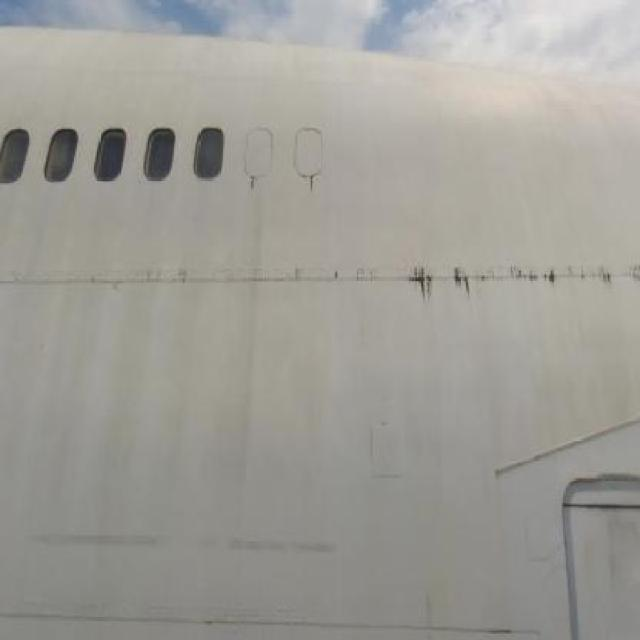Rust: (391, 246, 640, 317), (306, 171, 316, 206), (248, 173, 258, 195)
Scartch: (18, 512, 350, 570), (597, 512, 634, 585)
